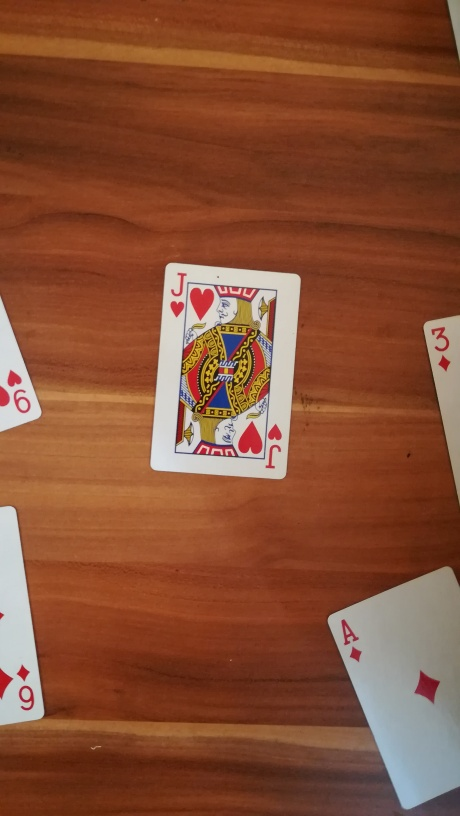fk a: (320, 564, 460, 814)
hx j: (139, 254, 315, 504)
